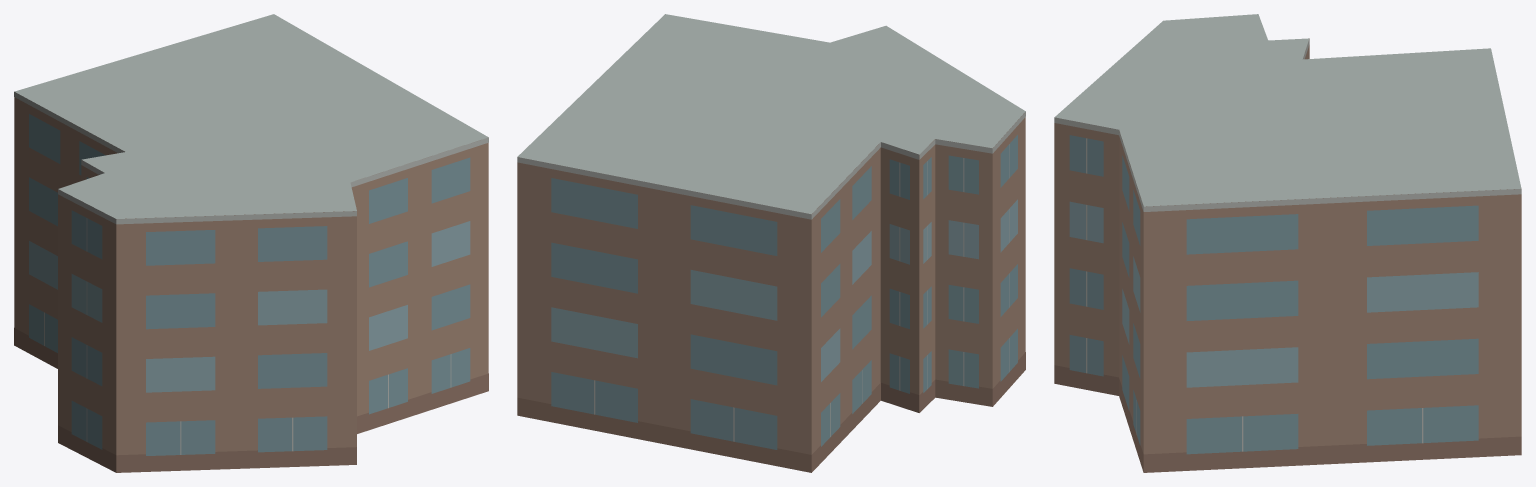
Rendered from survey-upis-33046676.glb.
3 renders of one model, left to right at view 1: azimuth 30°, elevation 25°; view 2: azimuth 150°, elevation 25°; view 3: azimuth 270°, elevation 25°, orthographic. The views are drawn at different scales.
Visible parts, largest first — view 1: survey-upis-33046676.tmp; view 2: survey-upis-33046676.tmp; view 3: survey-upis-33046676.tmp.
Boxes of the visible parts, left/top/right/bottom form: survey-upis-33046676.tmp: left=14, top=14, right=488, bottom=472; survey-upis-33046676.tmp: left=517, top=14, right=1025, bottom=472; survey-upis-33046676.tmp: left=1054, top=14, right=1521, bottom=472.
Size of the model in its own units: 18.07 by 11.65 by 18.53.
